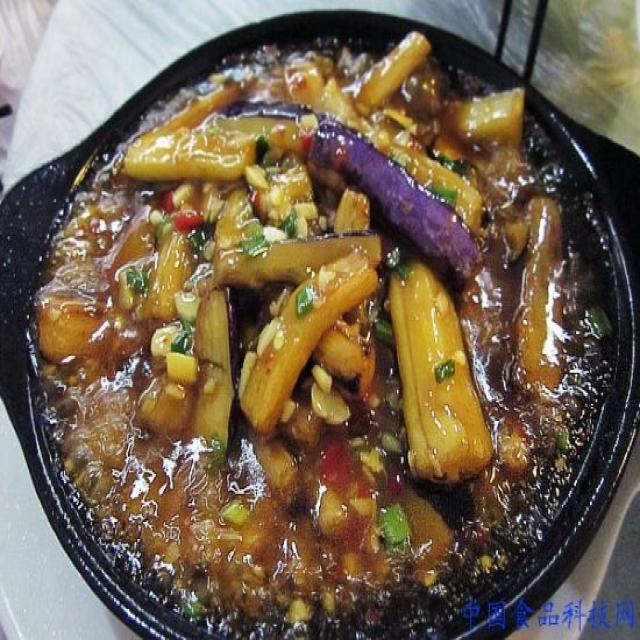鸡蛋料理: (35, 31, 618, 620)
